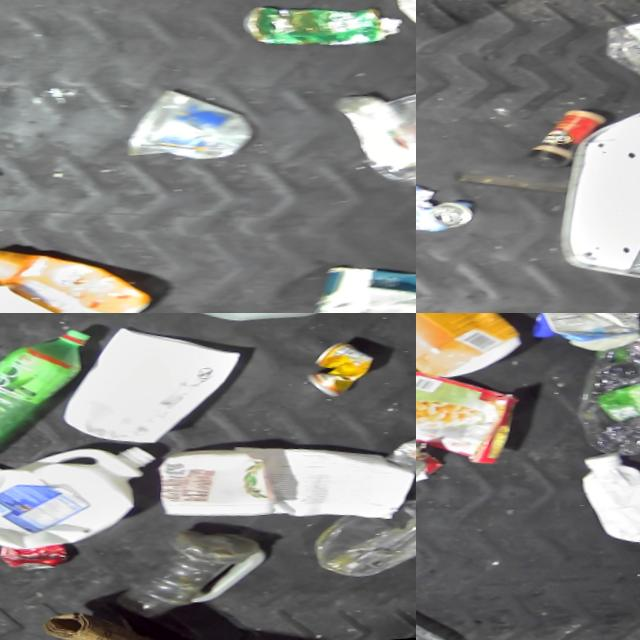can: (113, 84, 276, 178), (230, 1, 406, 69), (416, 171, 481, 253), (304, 346, 373, 407), (382, 431, 416, 501), (0, 541, 65, 577), (416, 451, 437, 512)
milk_jug: (0, 430, 154, 570)
non_white_jug: (0, 240, 149, 313), (416, 313, 515, 394)
plastic_bottle: (569, 326, 640, 476), (306, 502, 416, 594), (588, 0, 640, 102)
